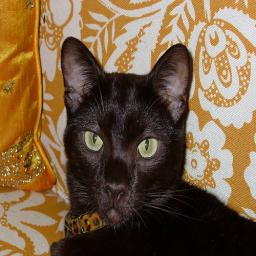catnose: (99, 178, 131, 206)
